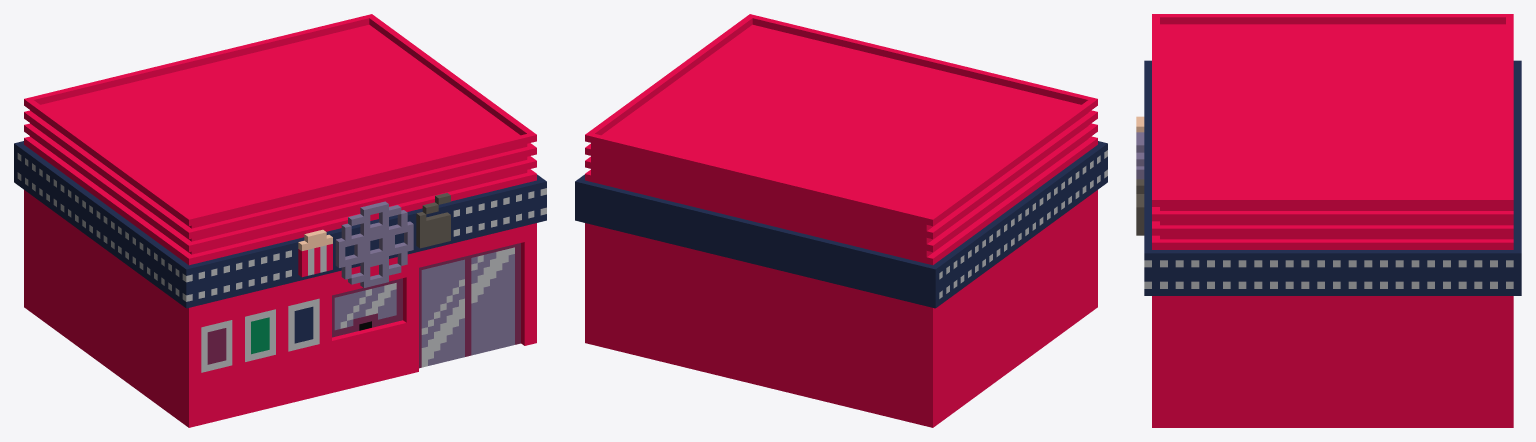
File: cinema_a.obj
3 renders of one model, left to right at view 1: azimuth 30°, elevation 25°; view 2: azimuth 150°, elevation 25°; view 3: azimuth 270°, elevation 25°, orthographic. The views are drawn at different scales.
Bounding box in the file's own units: 5.8 × 3.2 × 4.9.
Materials: 1 (1 with a texture image).
